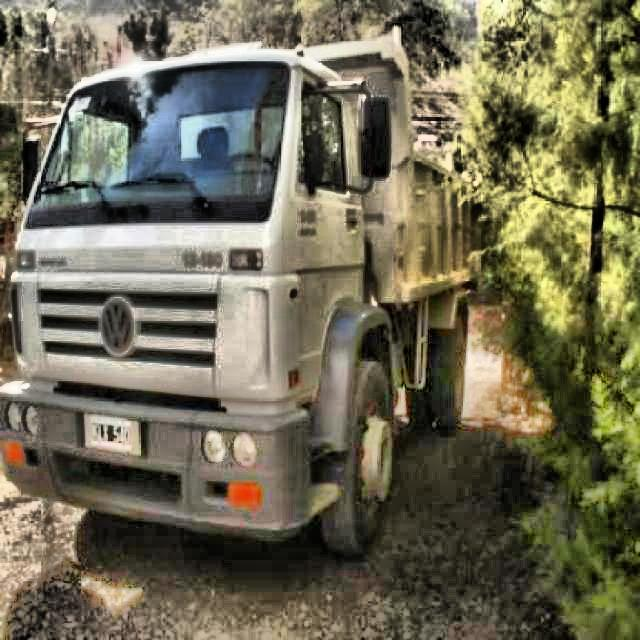dump_truck: (6, 33, 480, 541)
